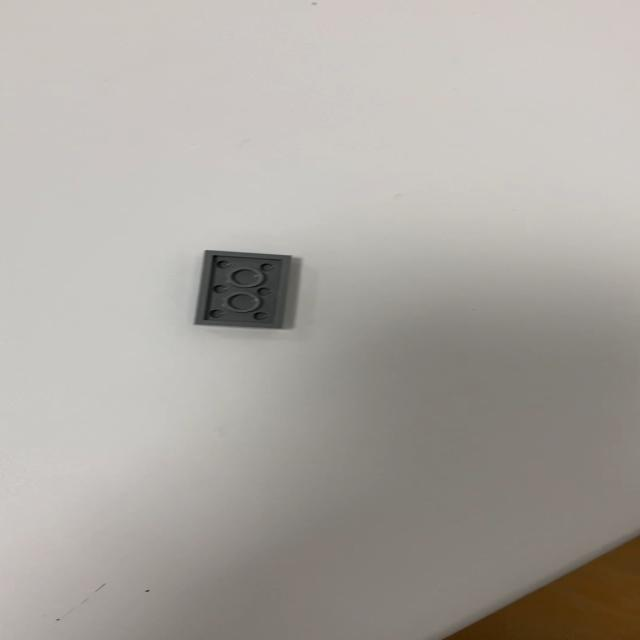C3x2x0: (191, 248, 290, 328)
